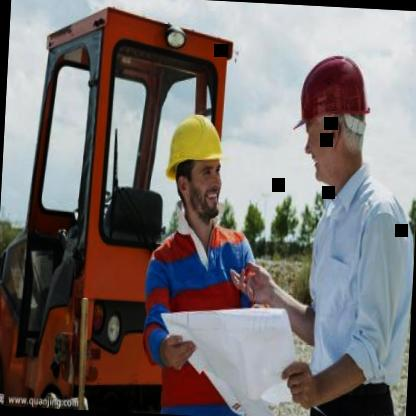helmet: (284, 33, 382, 193), (158, 98, 236, 230)
